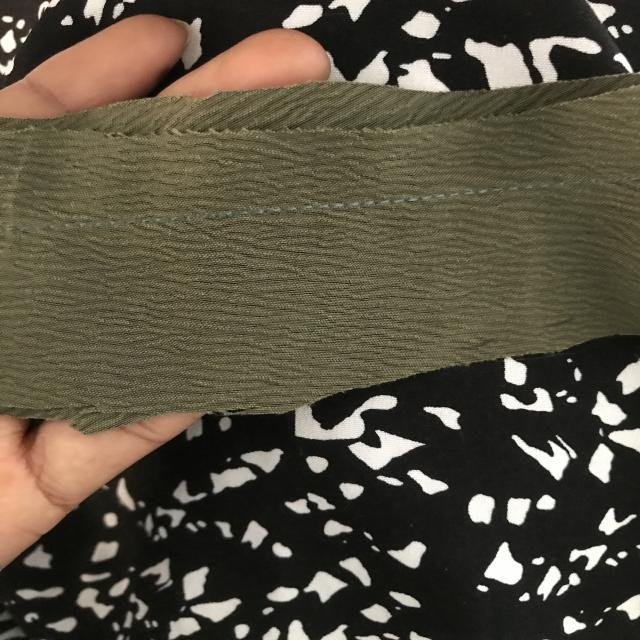good: (413, 169, 529, 223)
